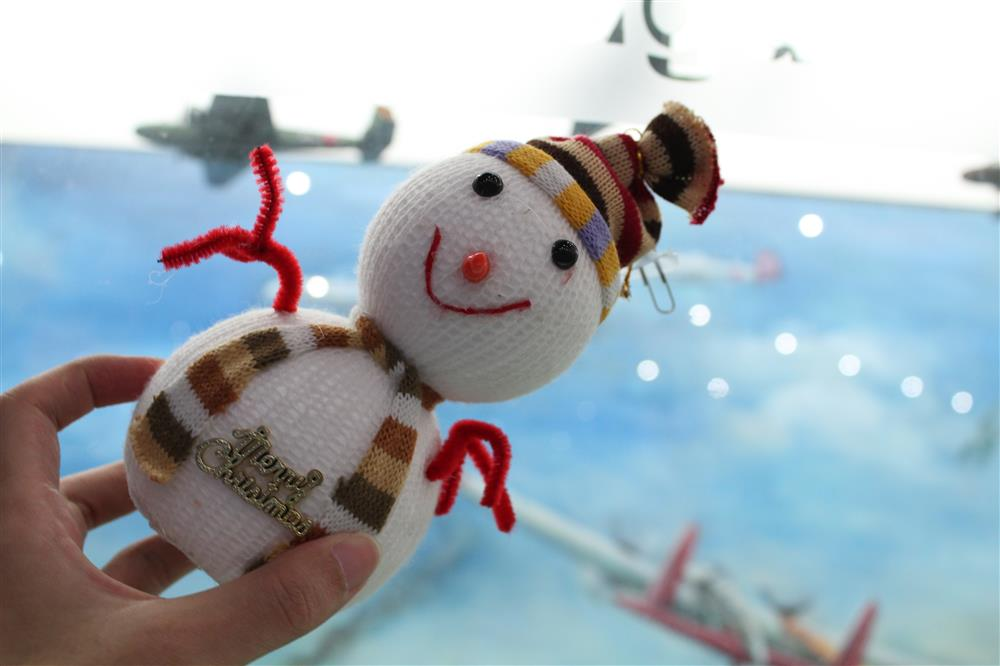toy_snowman: (116, 100, 725, 606)
